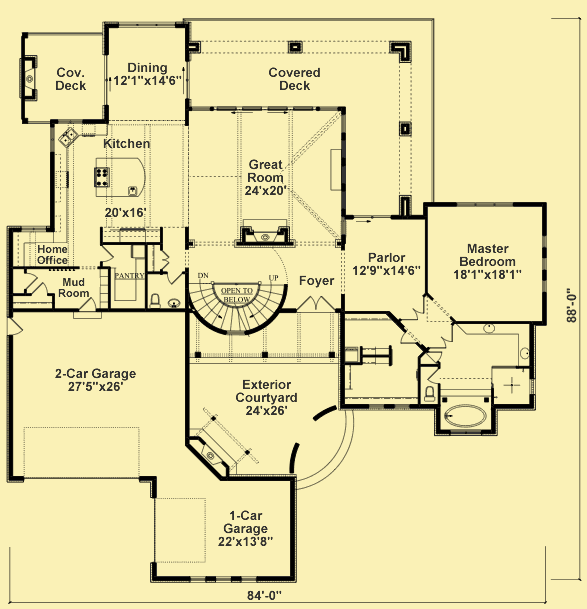door: (296, 292, 335, 317), (426, 322, 456, 350), (3, 313, 27, 341), (400, 297, 427, 321), (162, 266, 182, 286), (76, 293, 96, 312), (398, 329, 419, 347), (22, 269, 38, 292), (159, 245, 171, 272)
kitchen bar: (90, 154, 147, 199)
large sink: (146, 288, 163, 313), (418, 384, 437, 404)
small sink: (458, 319, 524, 335), (514, 326, 534, 363)
stairs: (190, 268, 289, 337)
tub: (436, 399, 492, 430)
windows: (185, 568, 261, 585), (112, 16, 181, 32), (537, 230, 552, 298), (97, 48, 111, 104), (365, 401, 412, 413), (16, 221, 50, 235)
